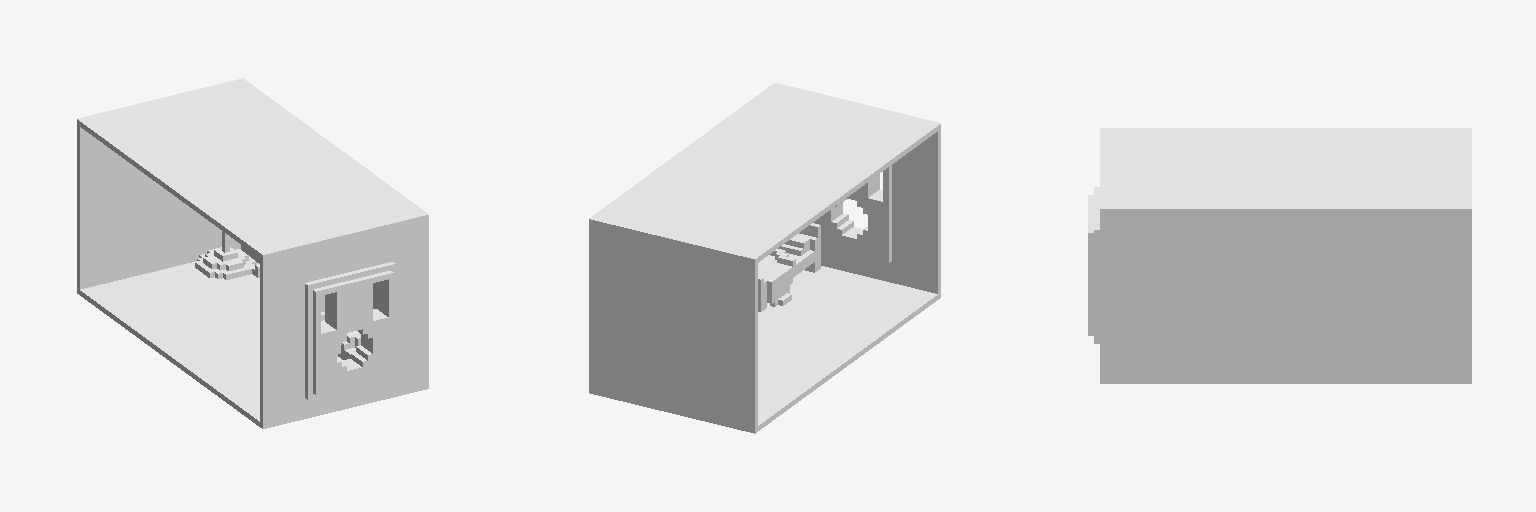
The model's file is Room(v).obj.
3 views of the same model, side by side, from view 1: azimuth 30°, elevation 25°; view 2: azimuth 150°, elevation 25°; view 3: azimuth 270°, elevation 25° (orthographic).
Bounding box in the file's own units: 32 × 32 × 64.